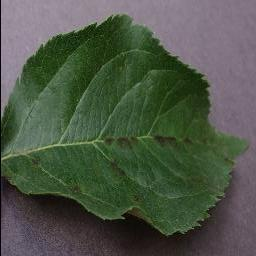apple healthy: (0, 12, 249, 237)
